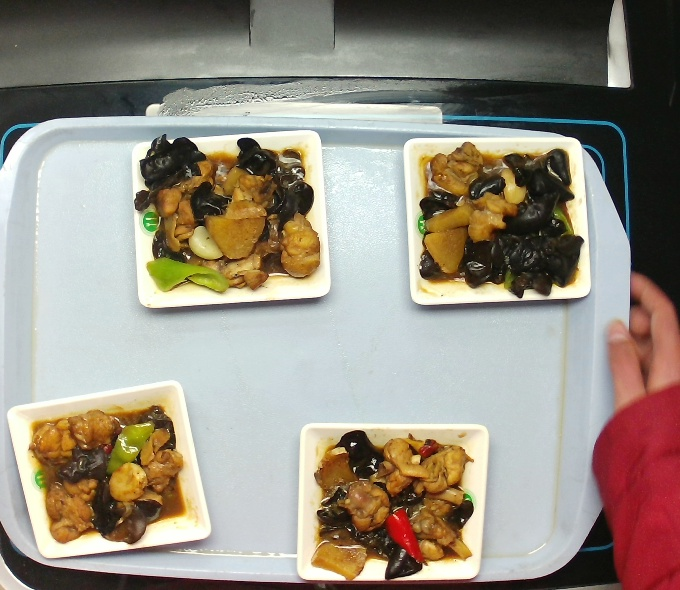wcq-MuErJiRou: (22, 388, 195, 549), (149, 122, 312, 292), (409, 142, 584, 297), (314, 426, 469, 582)
